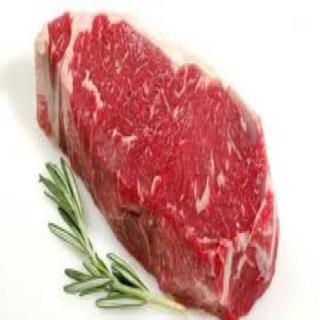Daging Sapi: (36, 12, 279, 316)
